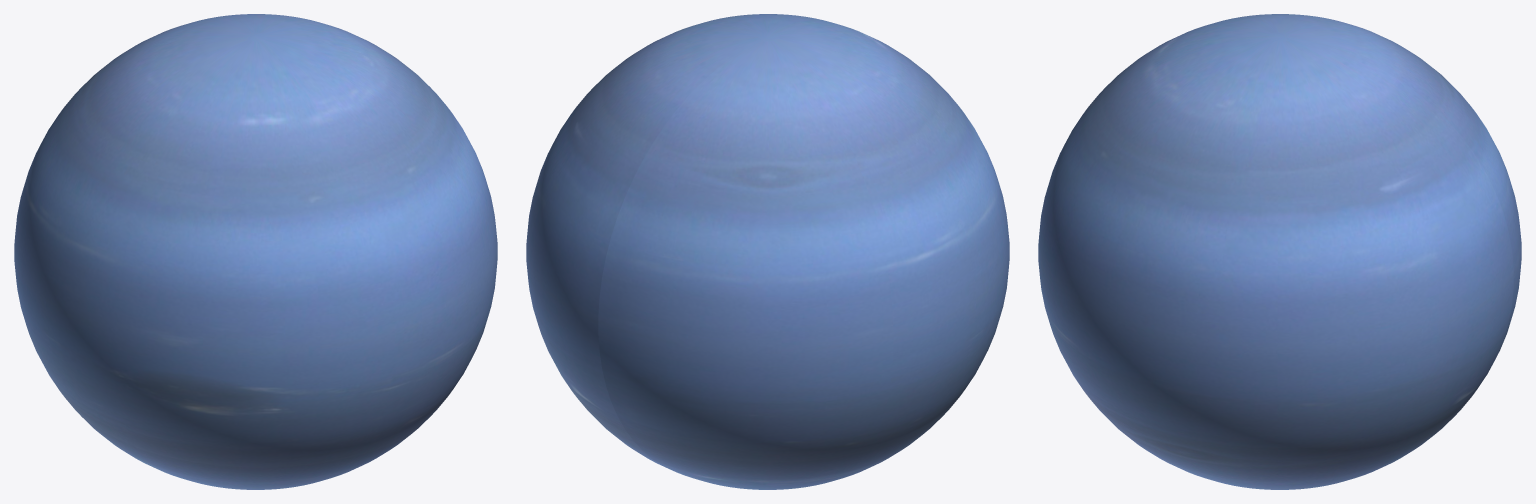
Rendered from Neptune.gltf.
3 renders of one model, left to right at view 1: azimuth 30°, elevation 25°; view 2: azimuth 150°, elevation 25°; view 3: azimuth 270°, elevation 25°, orthographic.
Parts seen in each view (by area): view 1: Neptune; view 2: Neptune; view 3: Neptune.
Boxes of the visible parts, x1=… form: Neptune: x1=14, y1=14, x2=497, y2=489; Neptune: x1=526, y1=14, x2=1009, y2=489; Neptune: x1=1038, y1=14, x2=1521, y2=489.
Size of the model in its own units: 1000 by 983 by 1000.
Materials: 1 (1 with a texture image).
